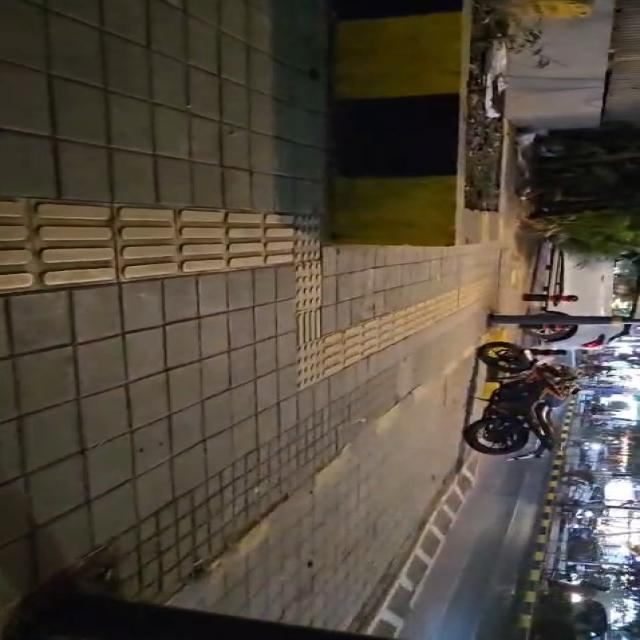auto: (334, 13, 522, 247)
bike: (3, 592, 364, 639), (464, 342, 578, 459), (489, 313, 639, 326)
